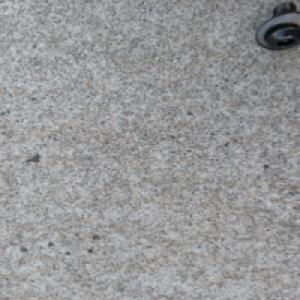BoltWasher: (255, 0, 300, 53)
